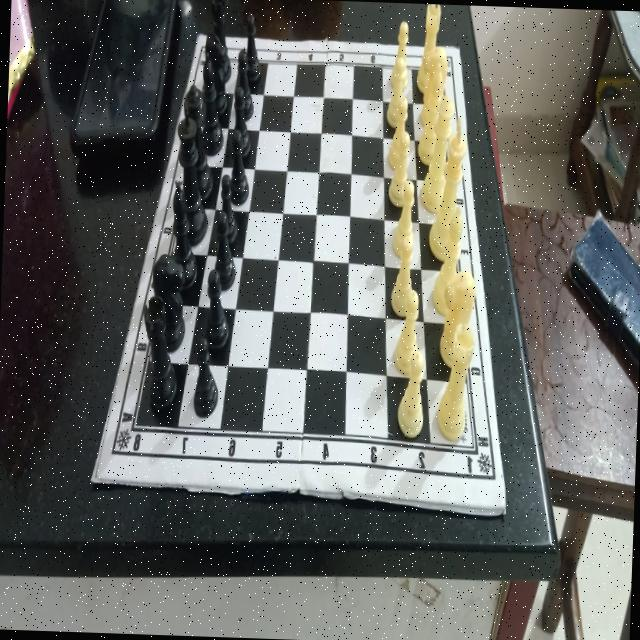corners: (190, 22, 208, 50), (496, 494, 512, 524), (86, 460, 100, 490), (452, 38, 468, 63)
